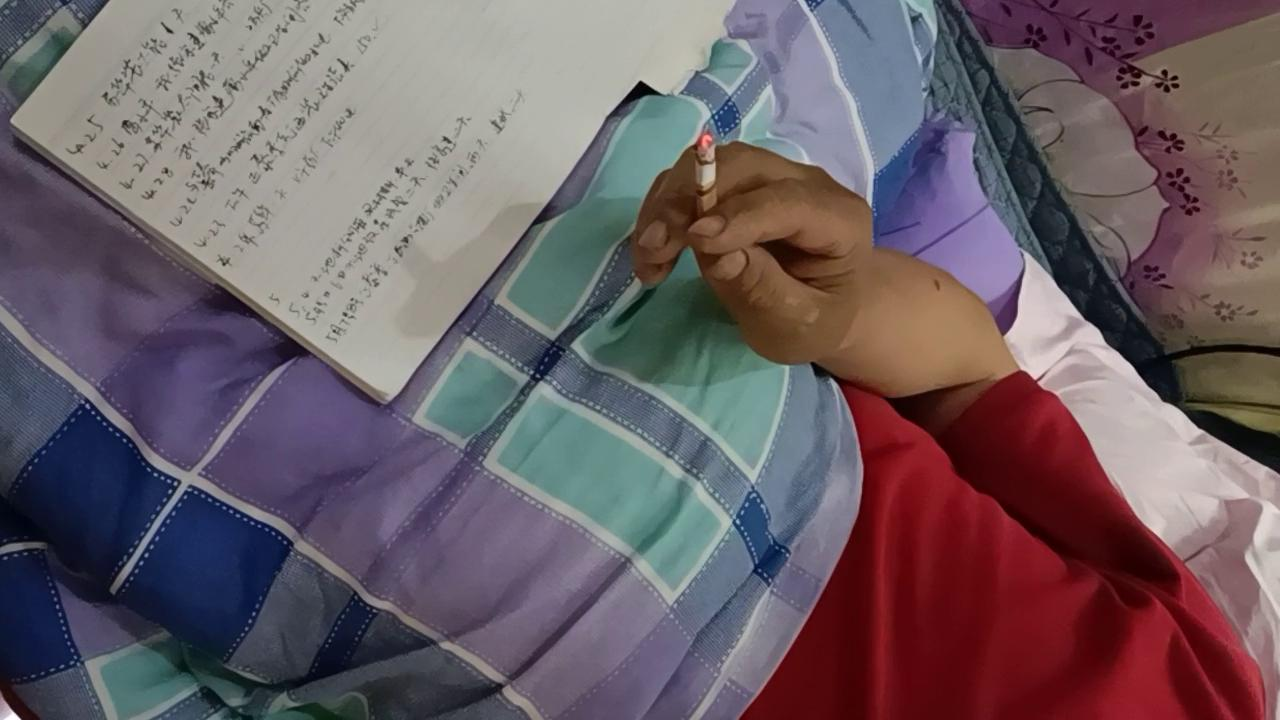smoke: (694, 129, 720, 236)
